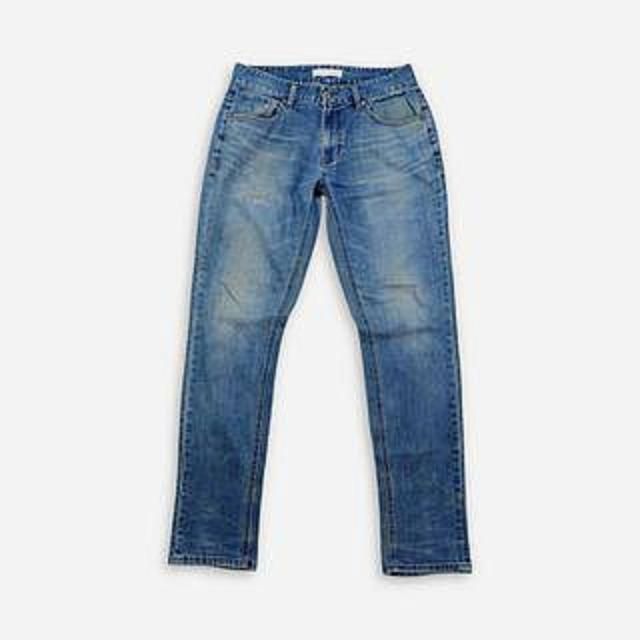TROUSER: (149, 53, 488, 584)
